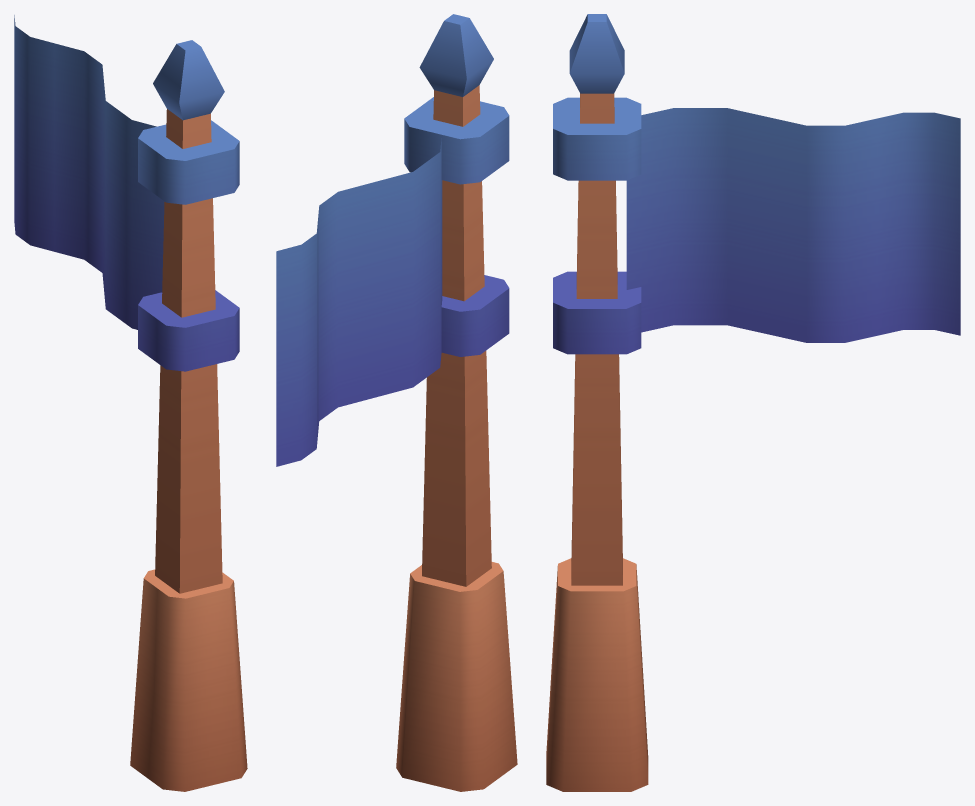
Rendered from flag.obj.
3 renders of one model, left to right at view 1: azimuth 30°, elevation 25°; view 2: azimuth 150°, elevation 25°; view 3: azimuth 270°, elevation 25°, orthographic. The views are drawn at different scales.
Visible parts, largest first — view 1: flag; view 2: flag; view 3: flag.
Boxes of the visible parts, box(x1,y1,x2,y2) form: flag: box(14, 15, 247, 791); flag: box(276, 14, 517, 791); flag: box(546, 14, 960, 791).
Size of the model in its own units: 0.1064 by 0.8656 by 0.4323.
Materials: 1 (1 with a texture image).
